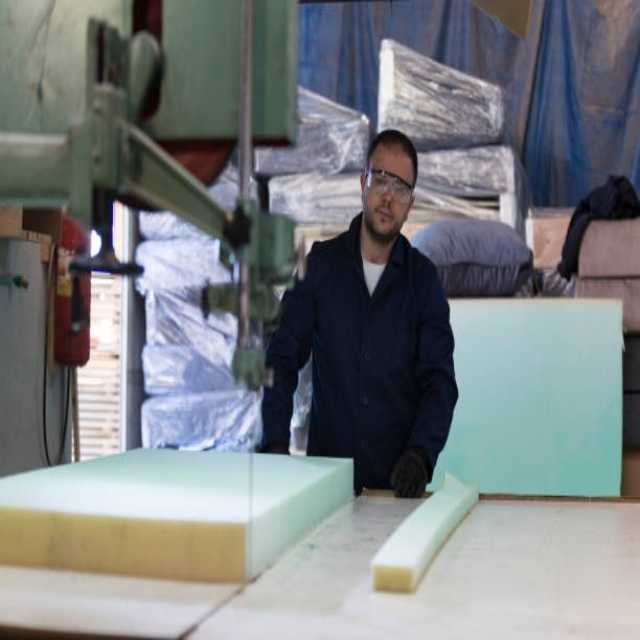Gafas: (366, 166, 414, 205)
Guantes: (389, 435, 433, 499)
Sin_mascara: (371, 202, 392, 229)
